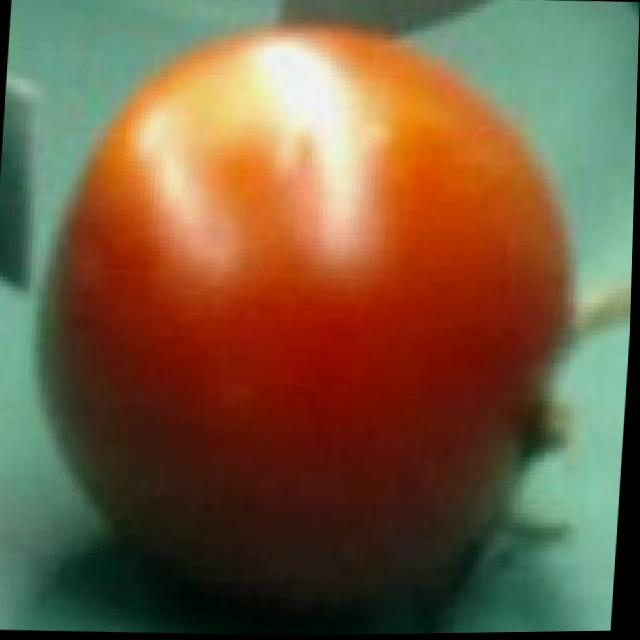tomato: (27, 20, 594, 603)
